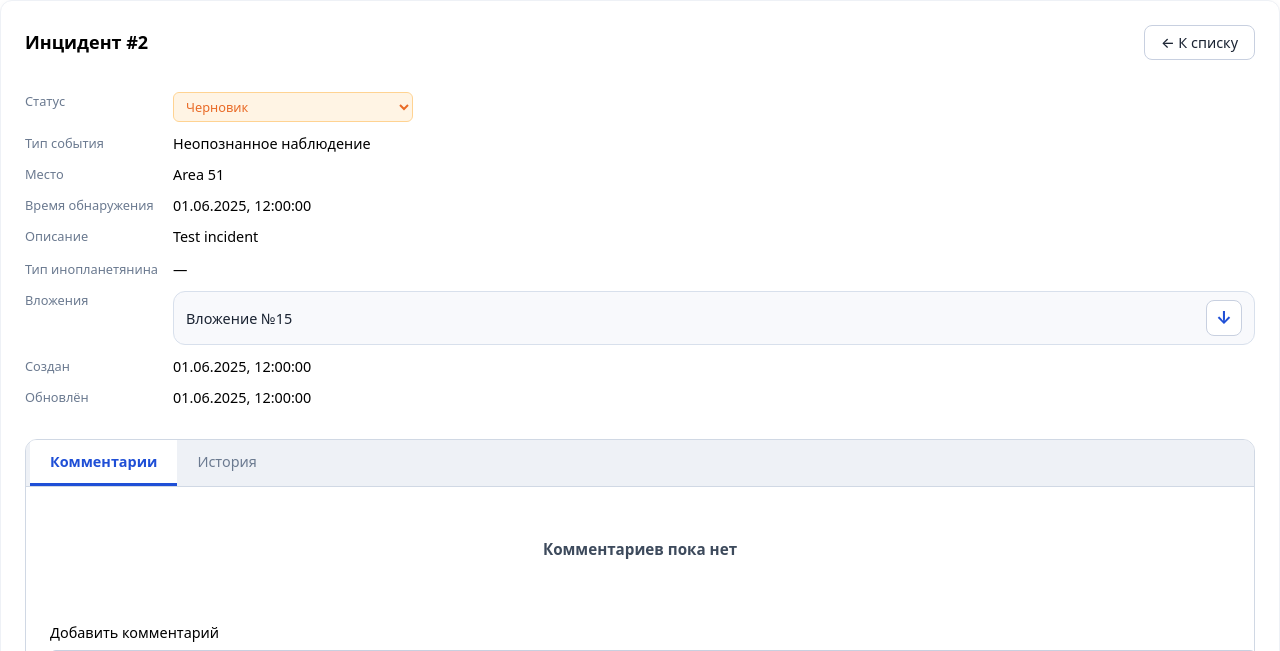
Test: IncidentDetailPage › shows error when download fails
Click the button named "Скачать Вложение №15".
click(1224, 318)  # box [1206,300,1242,336]
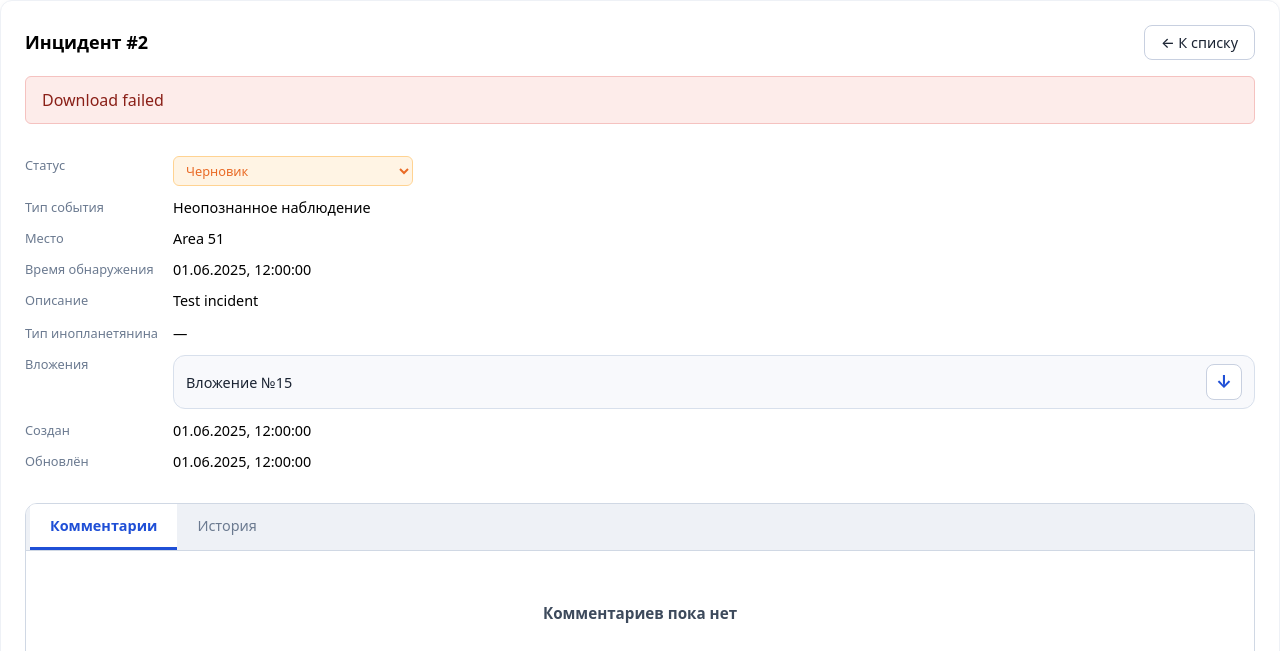
Now the text "Download failed" is shown, box [25,76,1255,124]
